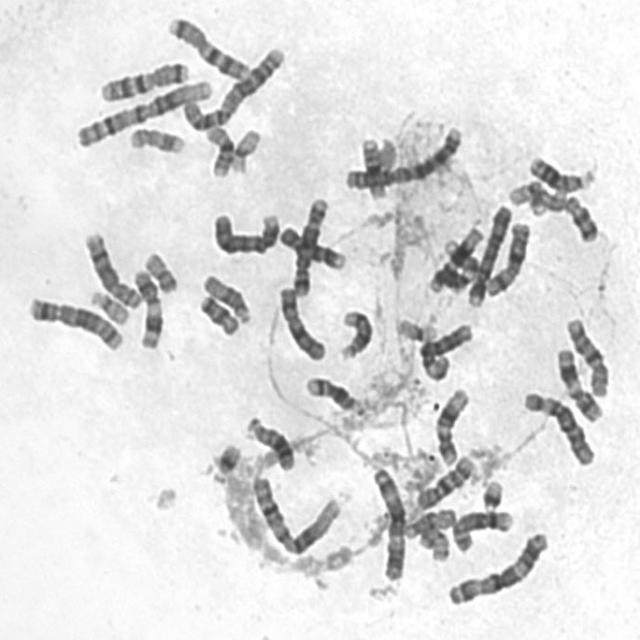A1: (70, 73, 215, 150), (246, 469, 344, 556)
A2: (178, 41, 288, 132), (340, 121, 464, 192)
A3: (442, 525, 551, 608), (366, 463, 408, 582)
B4: (462, 198, 514, 310), (208, 205, 282, 257)
B5: (22, 290, 126, 353), (288, 192, 331, 298)
C10: (561, 311, 611, 398), (411, 450, 478, 513)
C11: (551, 342, 605, 424), (128, 263, 164, 351)
C12: (425, 222, 486, 294), (430, 383, 471, 468)
C6: (519, 386, 597, 469), (414, 318, 474, 382)
C7: (163, 10, 252, 81), (94, 56, 192, 103)
C8: (78, 226, 143, 311), (446, 504, 516, 554)
C9: (274, 219, 348, 271), (433, 238, 480, 293)
D13: (240, 410, 296, 473), (524, 150, 598, 194)
D14: (300, 371, 361, 414), (336, 304, 374, 362)
D15: (198, 268, 253, 326), (397, 502, 458, 540)
E16: (357, 133, 390, 201), (200, 120, 235, 178)
E17: (123, 121, 187, 156), (528, 186, 570, 219)
E18: (194, 289, 241, 338), (563, 195, 600, 244)
F19: (226, 124, 263, 175), (391, 313, 440, 344)
F20: (140, 246, 180, 295), (414, 521, 451, 564)
G21: (205, 437, 243, 485), (476, 475, 504, 512)
G22: (85, 284, 130, 327), (504, 176, 546, 212)
X: (273, 281, 328, 363), (481, 216, 532, 298)
